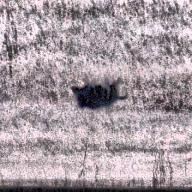boar: (67, 75, 132, 107)
